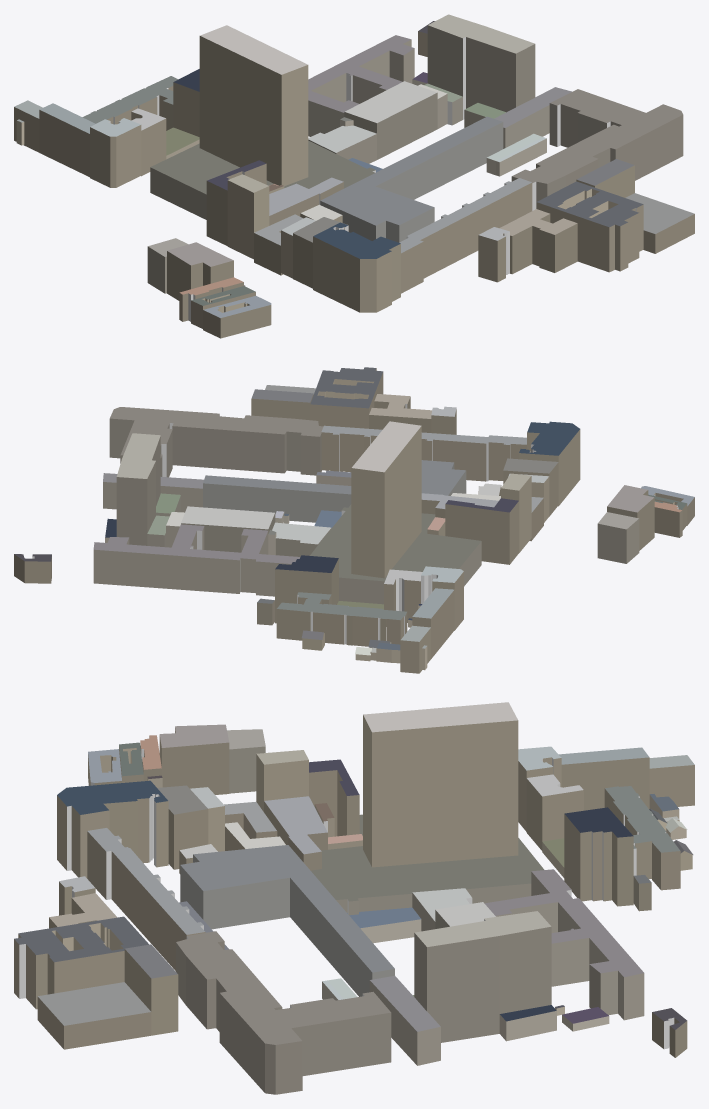
3 views of the same model, one above another, from view 1: azimuth 30°, elevation 25°; view 2: azimuth 150°, elevation 25°; view 3: azimuth 270°, elevation 25° (orthographic). The views are drawn at different scales.
Visible parts, largest first — view 1: tuile; view 2: tuile; view 3: tuile.
Boxes of the visible parts, bbox=[...] form: tuile: bbox=[14, 14, 694, 338]; tuile: bbox=[14, 367, 694, 673]; tuile: bbox=[14, 702, 694, 1094].
Size of the model in its own units: 308 by 74.42 by 274.
